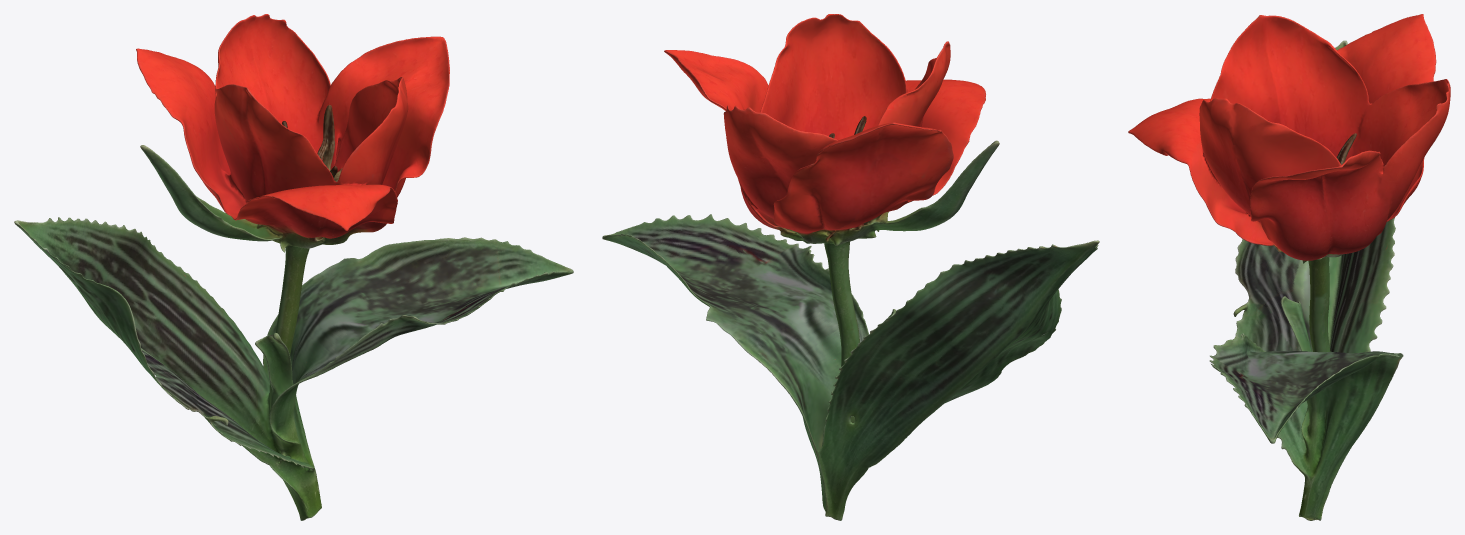
File: tulip_bloom.glb
3 renders of one model, left to right at view 1: azimuth 30°, elevation 25°; view 2: azimuth 150°, elevation 25°; view 3: azimuth 270°, elevation 25°, orthographic. The views are drawn at different scales.
Size of the model in its own units: 1.62 by 1.39 by 0.8716.
Materials: 1 (1 with a texture image).
